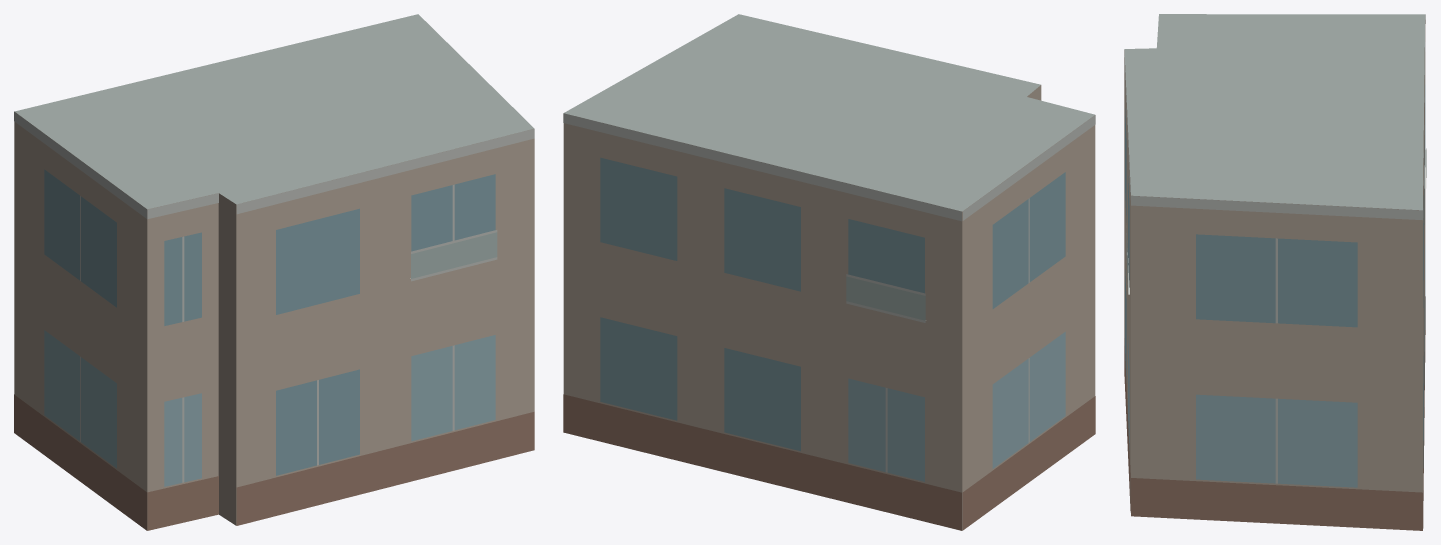
Rendered from survey-upis-32671964.glb.
The picture shows the model from 3 angles, left to right: view 1: azimuth 30°, elevation 25°; view 2: azimuth 150°, elevation 25°; view 3: azimuth 270°, elevation 25°; orthographic projection.
Parts seen in each view (by area): view 1: survey-upis-32671964.tmp; view 2: survey-upis-32671964.tmp; view 3: survey-upis-32671964.tmp.
Part boxes in pixels (x1,y1,x2,y2): survey-upis-32671964.tmp: (14,14,534,530); survey-upis-32671964.tmp: (563,14,1095,530); survey-upis-32671964.tmp: (1124,14,1426,530).
Size of the model in its own units: 10.38 by 7.9 by 6.76.
